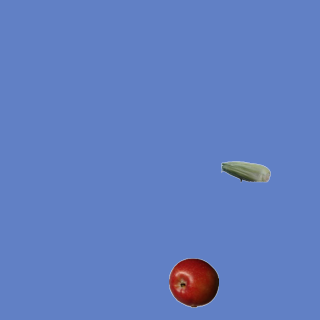Apple Braeburn: (168, 257, 218, 307)
Corn Husk: (220, 146, 270, 196)
